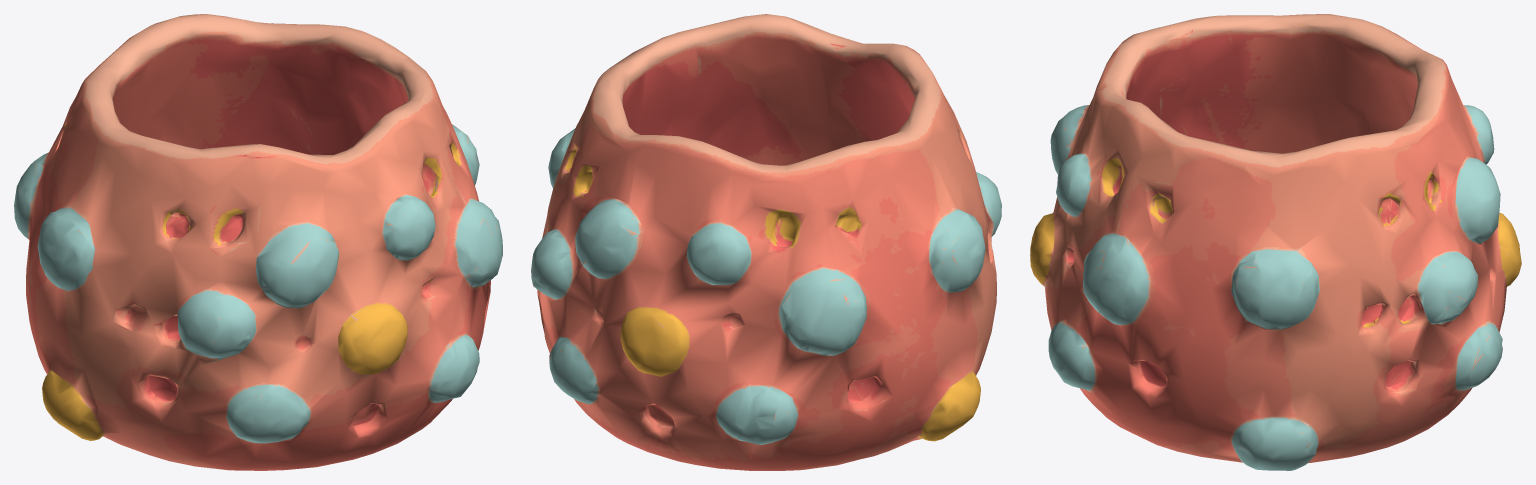
The model's file is sponge_barrel.glb.
3 renders of one model, left to right at view 1: azimuth 30°, elevation 25°; view 2: azimuth 150°, elevation 25°; view 3: azimuth 270°, elevation 25°, orthographic.
Visible parts, largest first — view 1: Mesh_0; view 2: Mesh_0; view 3: Mesh_0.
Part boxes in pixels (<box>): Mesh_0: <box>14,14,502,470</box>; Mesh_0: <box>531,14,1001,470</box>; Mesh_0: <box>1030,14,1521,470</box>.
Size of the model in its own units: 1.89 by 1.37 by 1.9.
Materials: 1 (1 with a texture image).
